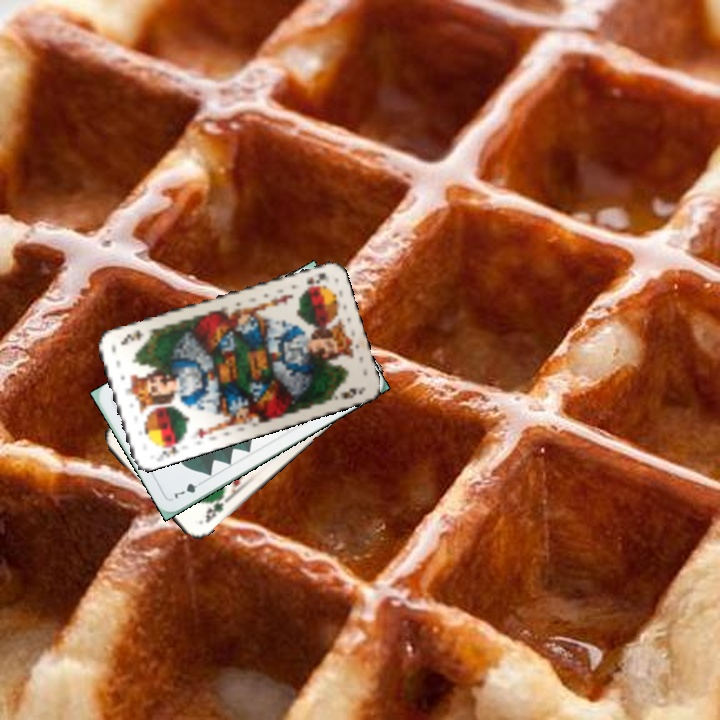G7: (170, 477, 206, 502)
GK: (201, 494, 226, 526)
SK: (154, 435, 184, 460), (302, 268, 329, 288)
